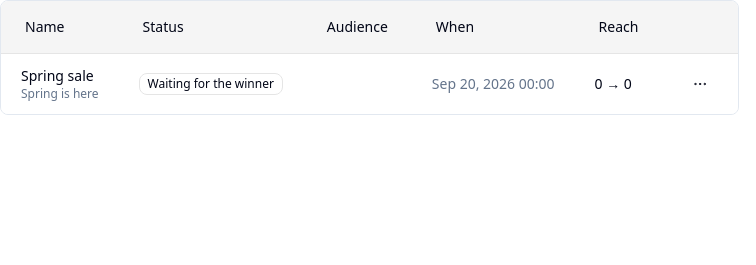
PushCampaignsTable row menu › offers Open, Edit, Duplicate and Cancel for a draft
Click the button named "Actions for Spring sale" at (700, 84), box [682,66,718,102]
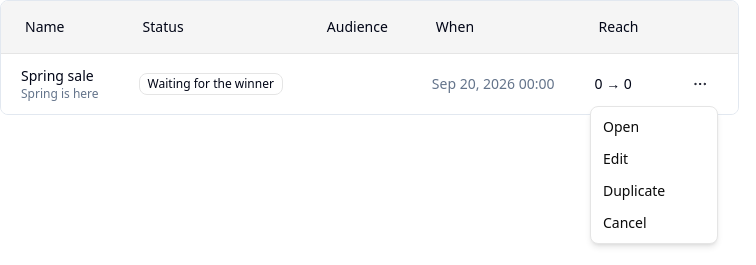
expect the menu item "Open" is shown: met, box [603,117,639,136]
expect the menu item "Edit" is shown: met, box [603,149,628,168]
expect the menu item "Duplicate" is shown: met, box [603,181,665,200]
